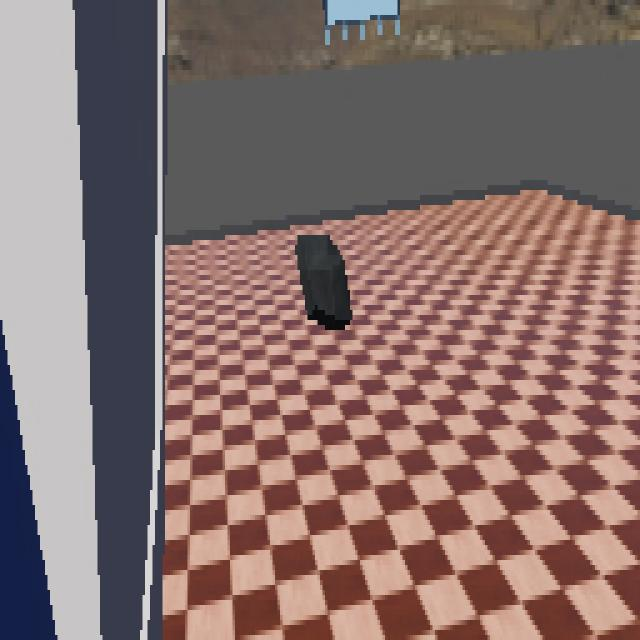rock: (296, 233, 352, 333)
